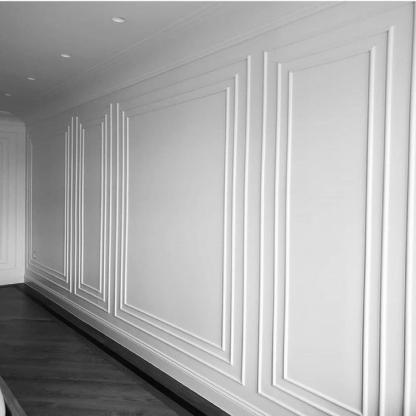Wooden floor: (0, 285, 204, 416)
